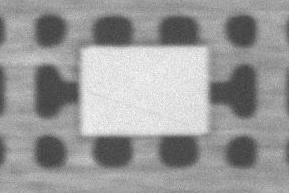DIE_CRACK: (133, 61, 283, 83)
